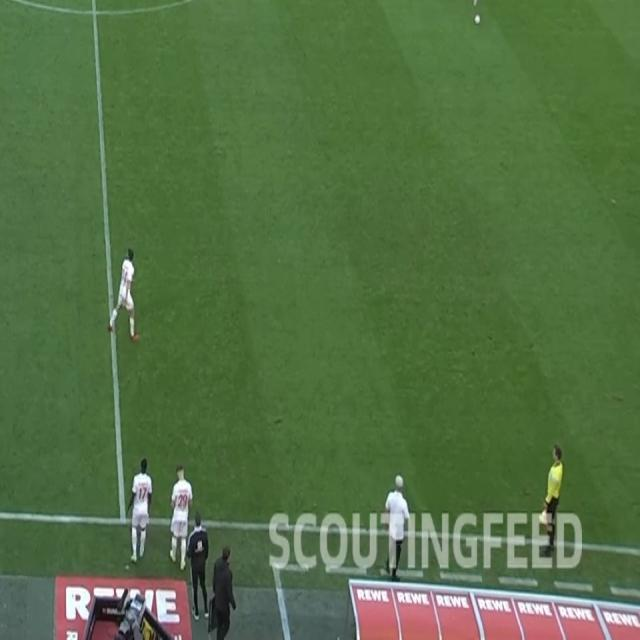ball: (474, 14, 480, 24)
